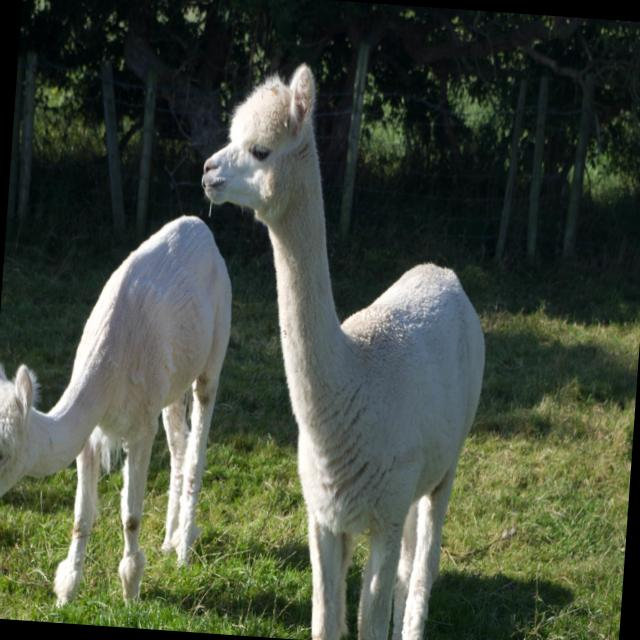alpaca: (169, 56, 503, 640), (0, 203, 237, 619)
